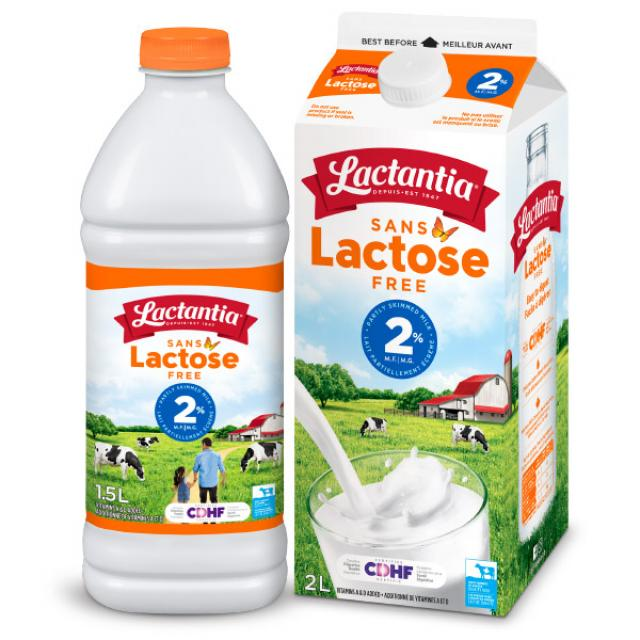milk: (290, 41, 572, 620), (81, 16, 291, 622)
